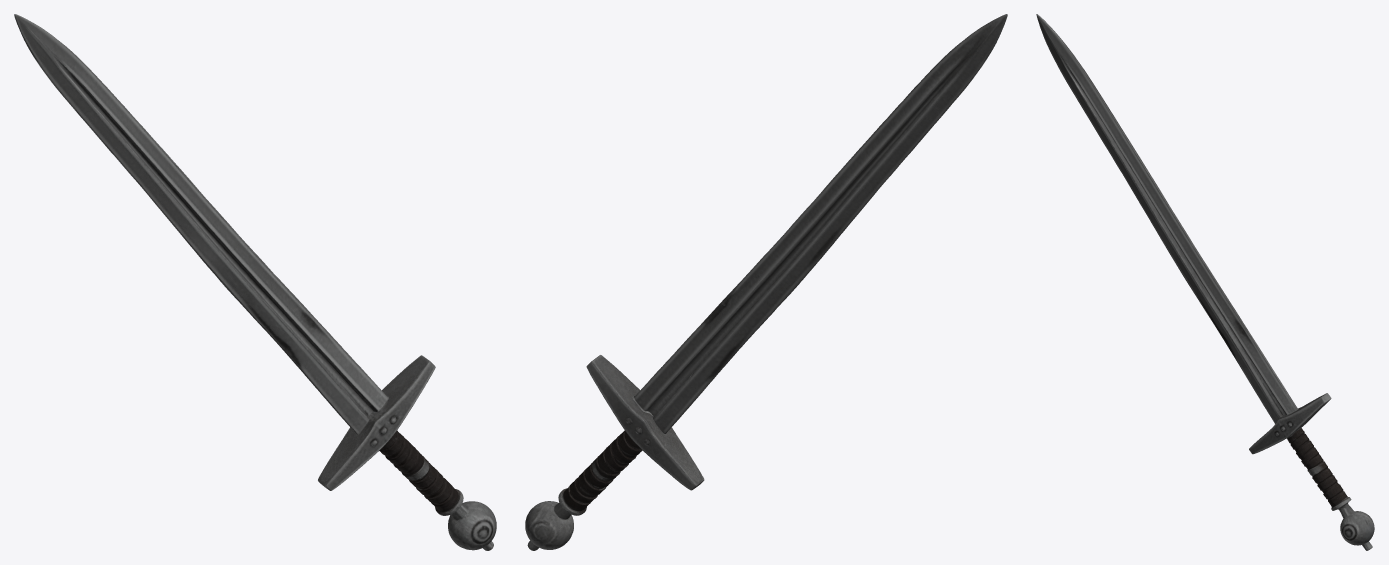
File: mec_dlouhy.glb
The picture shows the model from 3 angles, left to right: view 1: azimuth 30°, elevation 25°; view 2: azimuth 150°, elevation 25°; view 3: azimuth 330°, elevation 25°; orthographic projection. The views are drawn at different scales.
Size of the model in its own units: 0.7699 by 1 by 0.0681.
Materials: 1 (1 with a texture image).
